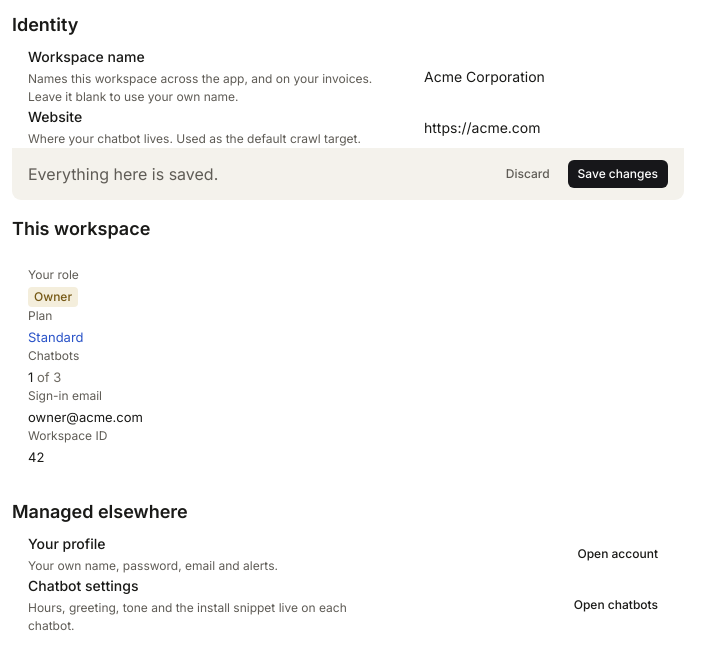
Scenario: GeneralPage — unsaved changes are visible and recoverable › rejects a website that is not one, without touching the other fields
Expected: the field showing "Acme Corporation" is shown, [412,59,668,93]
Replace the text in the field labelled "Website" with "not a website" at [540, 127], box [412,110,668,144]
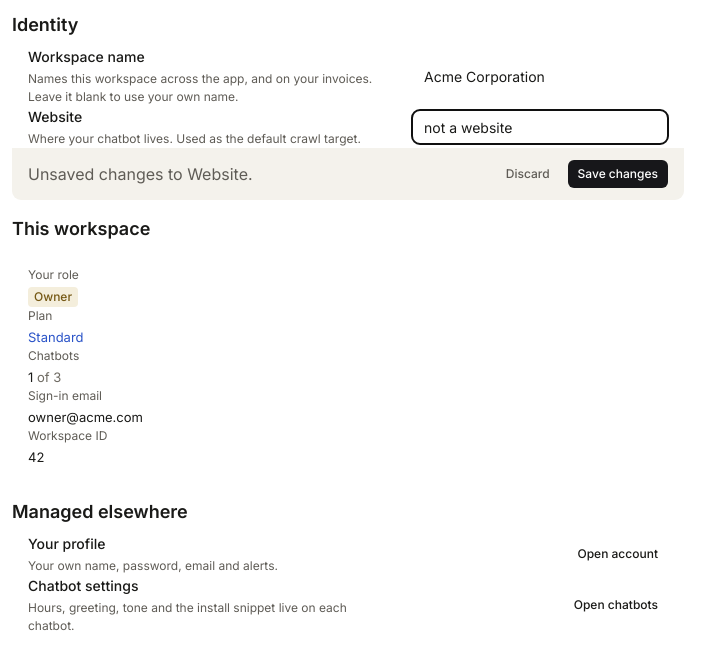
Click the button "Save changes" at [618, 174], box [568,160,668,188]
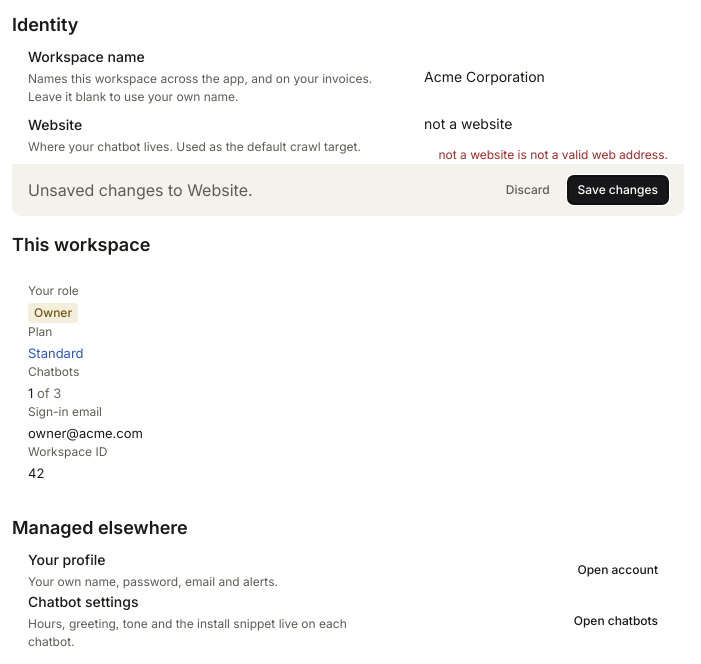
Now the text "not a website is not a valid web address." is shown, box [412,146,668,164]
